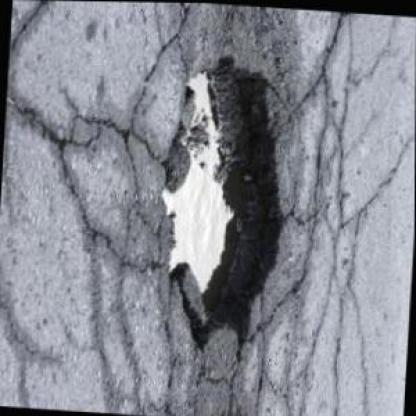pothole: (144, 48, 301, 358)
